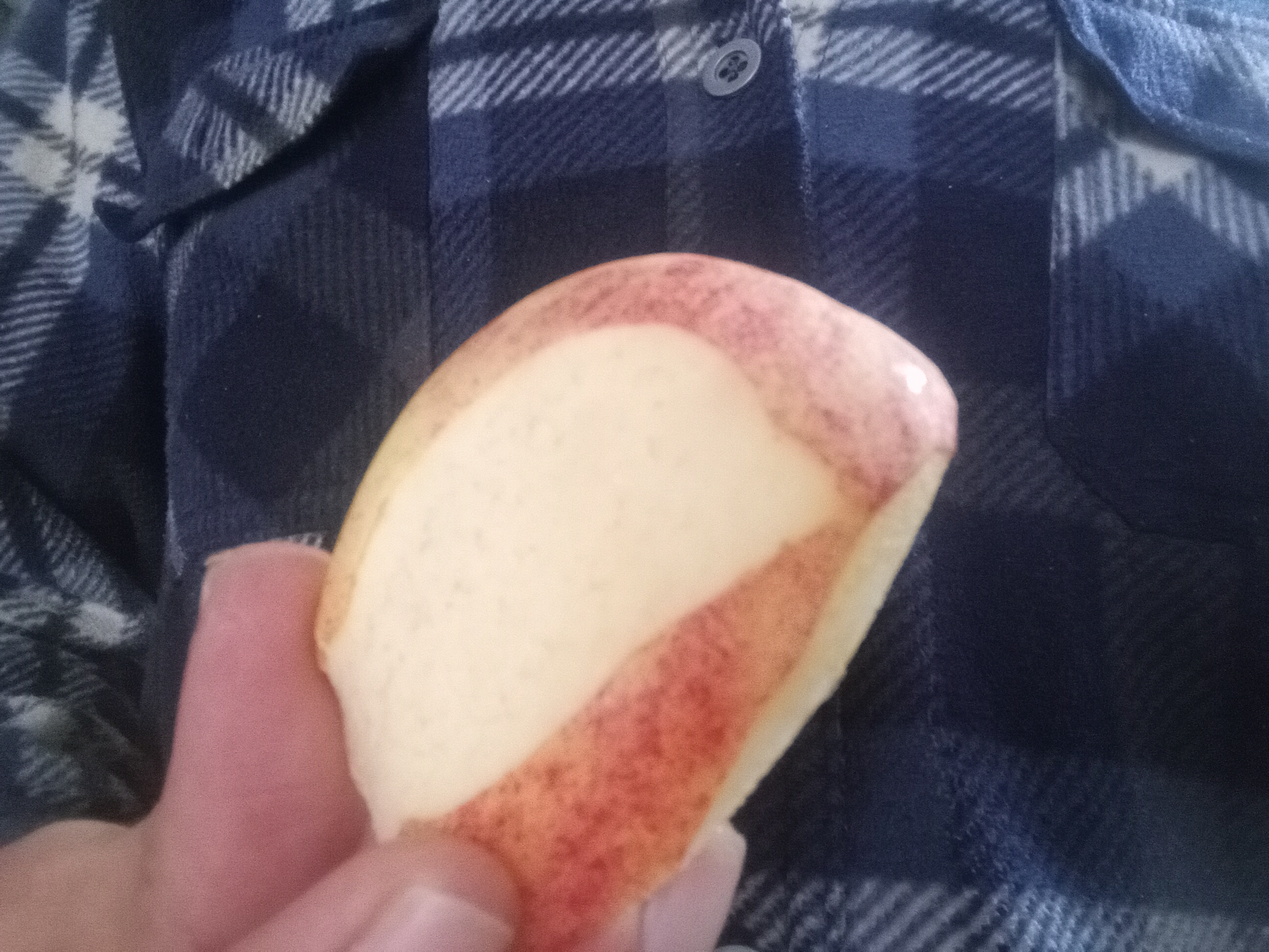Organico: (316, 252, 960, 952)
